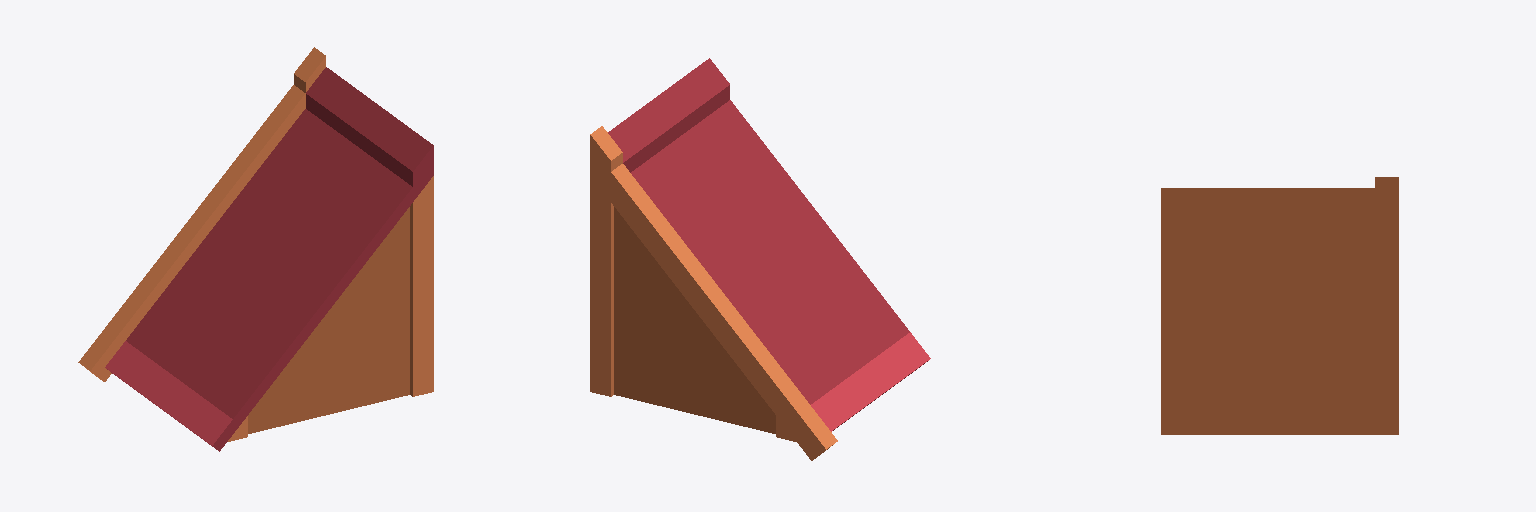
Rendered from roofHighLeft.obj.
3 views of the same model, side by side, from view 1: azimuth 30°, elevation 25°; view 2: azimuth 150°, elevation 25°; view 3: azimuth 270°, elevation 25° (orthographic).
Parts seen in each view (by area): view 1: roofHighLeft; view 2: roofHighLeft; view 3: roofHighLeft.
Boxes of the visible parts, x1,y1,x2,y2 form: roofHighLeft: [78, 47, 433, 451]; roofHighLeft: [590, 58, 930, 460]; roofHighLeft: [1161, 177, 1398, 434].
Bounding box in the file's own units: 1.14 × 1.26 × 1.